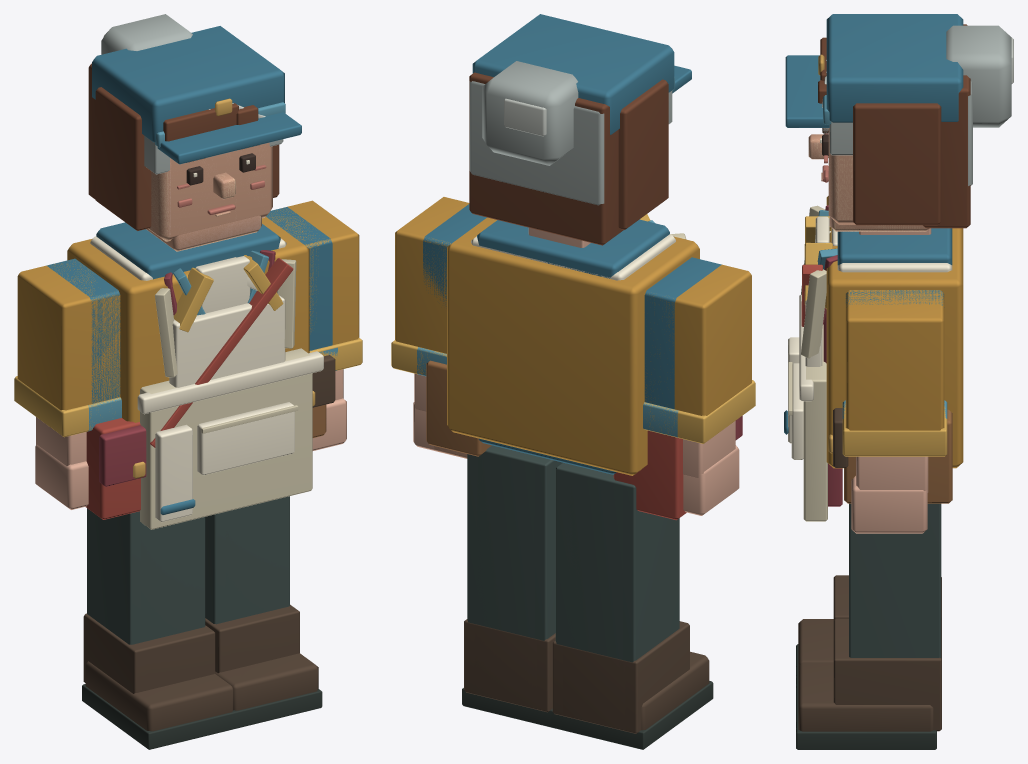
Rendered from actors.glb.
3 renders of one model, left to right at view 1: azimuth 30°, elevation 25°; view 2: azimuth 150°, elevation 25°; view 3: azimuth 270°, elevation 25°, orthographic. The views are drawn at different scales.
Visible parts, largest first — view 1: Molly_Geometry, Milo_Head_Geometry, Molly_LeftLeg_Geometry, Molly_LeftArm_Geometry, Milo_Geometry, Molly_RightLeg_Geometry, Nora_Head_Geometry, Milo_LeftLeg_Geometry, Milo_RightLeg_Geometry, Molly_RightArm_Geometry, Milo_LeftArm_Geometry, Molly_Head_Geometry (+2 smaller); view 2: Molly_Geometry, Molly_LeftLeg_Geometry, Molly_LeftArm_Geometry, Molly_Head_Geometry, Milo_LeftLeg_Geometry, Molly_RightLeg_Geometry, Milo_RightLeg_Geometry, Nora_Head_Geometry, Milo_Head_Geometry, Milo_Geometry, Molly_RightArm_Geometry, Milo_LeftArm_Geometry (+2 smaller); view 3: Molly_RightLeg_Geometry, Molly_RightArm_Geometry, Milo_Head_Geometry, Molly_Geometry, Nora_Head_Geometry, Molly_Head_Geometry, Nora_Geometry, Milo_Geometry, Molly_LeftLeg_Geometry, Milo_RightArm_Geometry, Milo_LeftLeg_Geometry.
Boxes of the visible parts, <box> form: Molly_Geometry: <box>67,217,323,529</box>; Milo_Head_Geometry: <box>92,26,301,250</box>; Molly_LeftLeg_Geometry: <box>82,508,236,749</box>; Molly_LeftArm_Geometry: <box>14,262,120,509</box>; Milo_Geometry: <box>85,222,293,519</box>; Molly_RightLeg_Geometry: <box>205,496,322,728</box>; Nora_Head_Geometry: <box>88,63,279,251</box>; Milo_LeftLeg_Geometry: <box>141,522,227,747</box>; Milo_RightLeg_Geometry: <box>223,519,312,726</box>; Molly_RightArm_Geometry: <box>266,200,362,450</box>; Milo_LeftArm_Geometry: <box>46,258,121,431</box>; Molly_Head_Geometry: <box>101,14,283,250</box>; Molly_Geometry: <box>447,214,699,475</box>; Molly_LeftLeg_Geometry: <box>551,462,713,749</box>; Molly_LeftArm_Geometry: <box>644,264,755,515</box>; Molly_Head_Geometry: <box>469,61,672,205</box>; Milo_LeftLeg_Geometry: <box>561,465,632,746</box>; Molly_RightLeg_Geometry: <box>462,449,562,728</box>; Milo_RightLeg_Geometry: <box>473,445,544,725</box>; Nora_Head_Geometry: <box>469,72,668,245</box>; Milo_Head_Geometry: <box>472,14,691,134</box>; Milo_Geometry: <box>477,219,742,520</box>; Molly_RightArm_Geometry: <box>391,197,469,456</box>; Milo_LeftArm_Geometry: <box>643,257,721,437</box>; Molly_RightLeg_Geometry: <box>796,503,941,749</box>; Molly_RightArm_Geometry: <box>842,290,947,533</box>; Milo_Head_Geometry: <box>785,14,963,231</box>; Molly_Geometry: <box>784,196,963,521</box>; Nora_Head_Geometry: <box>808,24,970,231</box>; Molly_Head_Geometry: <box>809,25,1013,229</box>; Nora_Geometry: <box>815,205,952,506</box>; Milo_Geometry: <box>801,210,952,326</box>; Molly_LeftLeg_Geometry: <box>796,575,941,688</box>; Milo_RightArm_Geometry: <box>842,290,947,480</box>; Milo_LeftLeg_Geometry: <box>796,580,848,684</box>.
Size of the model in its own units: 0.902 by 1.83 by 0.5715.
